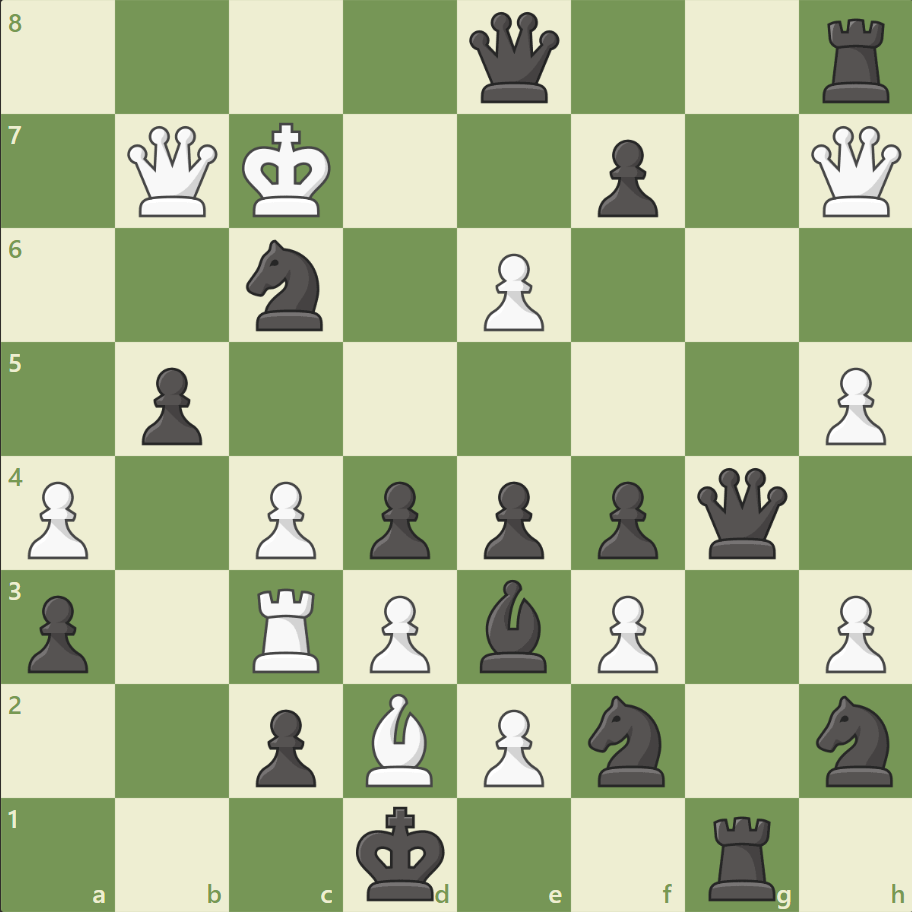B: (358, 687, 442, 790)
K: (238, 117, 338, 225)
P: (474, 246, 549, 337), (20, 473, 95, 564), (247, 473, 322, 564), (474, 700, 549, 791), (815, 359, 889, 450), (361, 586, 435, 677), (588, 586, 662, 677), (815, 586, 889, 677)
Q: (124, 122, 223, 222), (805, 122, 904, 222)
R: (246, 579, 329, 676)
b: (471, 574, 555, 676)
k: (351, 798, 451, 906)
n: (238, 234, 335, 337), (579, 688, 676, 791), (806, 688, 903, 791)
p: (133, 359, 208, 450), (474, 473, 549, 564), (20, 586, 95, 677), (247, 700, 322, 791), (588, 132, 662, 223), (361, 473, 435, 564), (588, 473, 662, 564)
q: (464, 9, 563, 108), (691, 463, 790, 562)
r: (700, 806, 783, 904), (814, 12, 897, 109)
